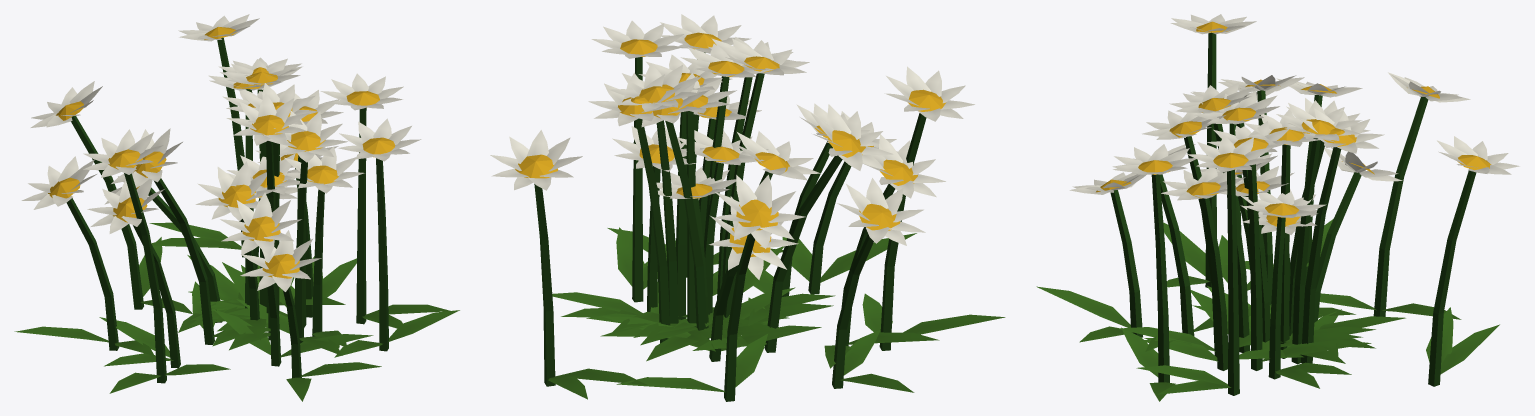
File: Flowers_Daisy.glb
3 views of the same model, side by side, from view 1: azimuth 30°, elevation 25°; view 2: azimuth 150°, elevation 25°; view 3: azimuth 270°, elevation 25° (orthographic). The views are drawn at different scales.
Visible parts, largest first — view 1: Flowers_Daisy__Blooms, Flowers_Daisy__Stems; view 2: Flowers_Daisy__Blooms, Flowers_Daisy__Stems; view 3: Flowers_Daisy__Blooms, Flowers_Daisy__Stems.
Boxes of the visible parts, x1,y1,x2,y2 form: Flowers_Daisy__Blooms: [14, 14, 459, 401]; Flowers_Daisy__Stems: [66, 37, 388, 383]; Flowers_Daisy__Blooms: [490, 14, 1005, 399]; Flowers_Daisy__Stems: [534, 52, 926, 401]; Flowers_Daisy__Blooms: [1036, 14, 1519, 401]; Flowers_Daisy__Stems: [1110, 32, 1476, 395].
Size of the model in its own units: 6.53 by 4.3 by 7.33.
Materials: 1 (1 with a texture image).
